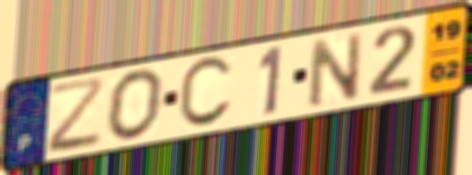1: (255, 43, 285, 119)
2: (367, 24, 422, 99)
C: (175, 54, 236, 132)
N: (307, 29, 365, 111)
O: (105, 66, 167, 144)
Z: (46, 73, 108, 158)
